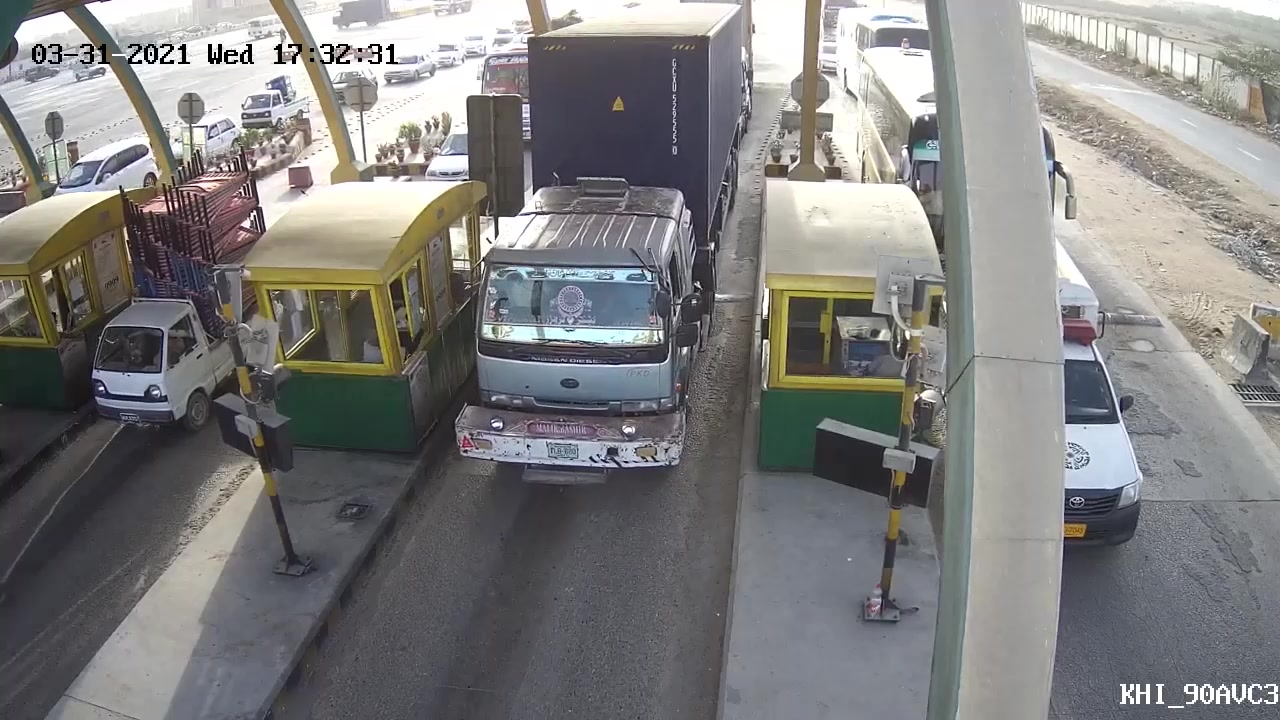F6: (452, 1, 761, 503)
